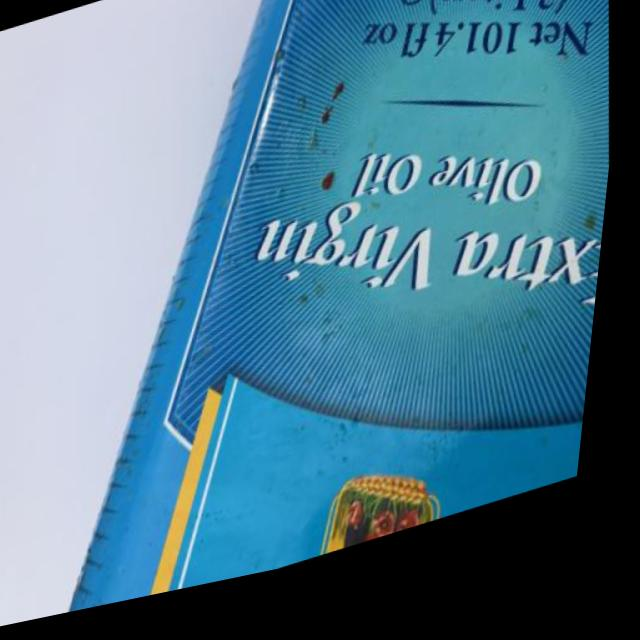metal: (0, 0, 640, 634)
